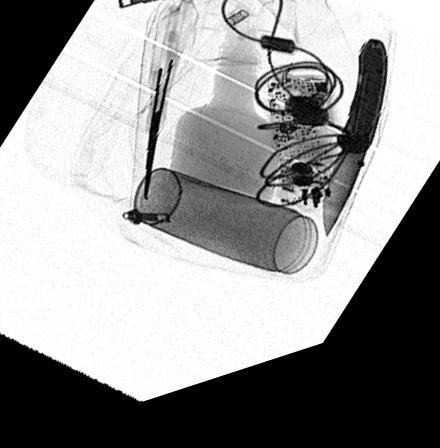Knife: (321, 60, 386, 257)
Scissors: (142, 5, 202, 208)
